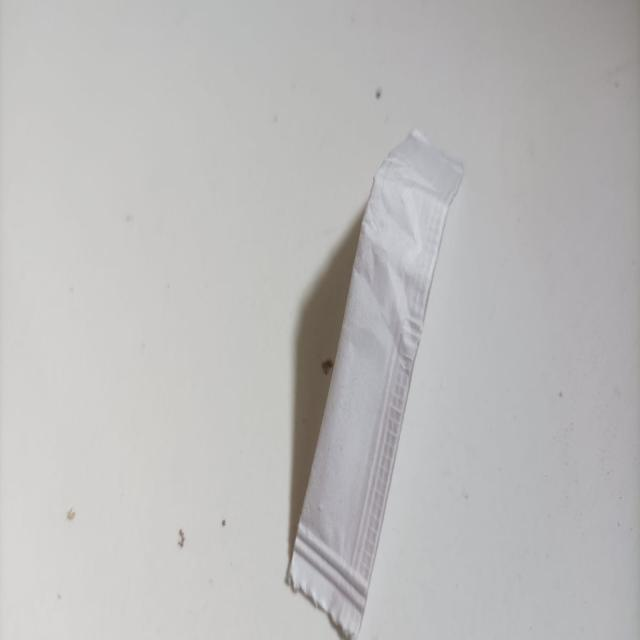Organik: (287, 133, 467, 640)
